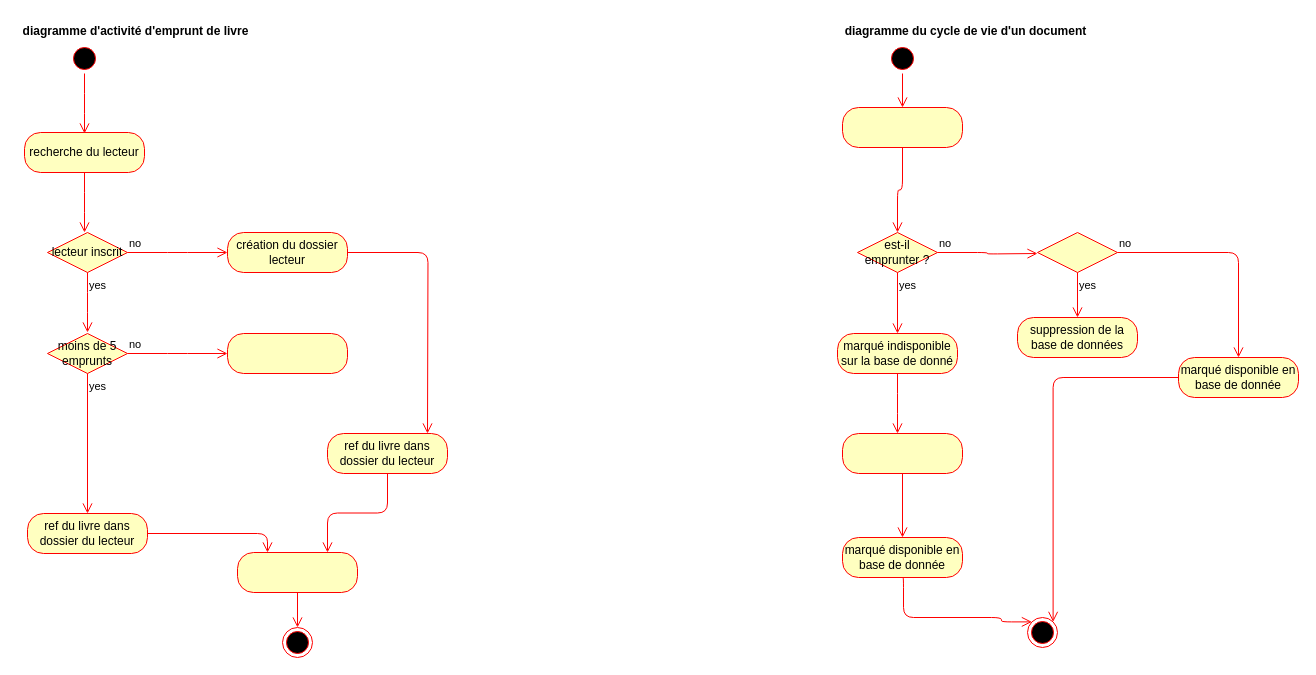
This 1316x675 diagram has some shape labels left out. Here are the shapes that lost their labels. From the top down, the centre of each, then its label:
the point at 902,127: enregistrement des références du document
the point at 1077,252: perdue ou voler?
the point at 287,353: message de refus d'emprunt
the point at 902,453: retour en bibliothèque
the point at 297,572: émission d'une date de retour
